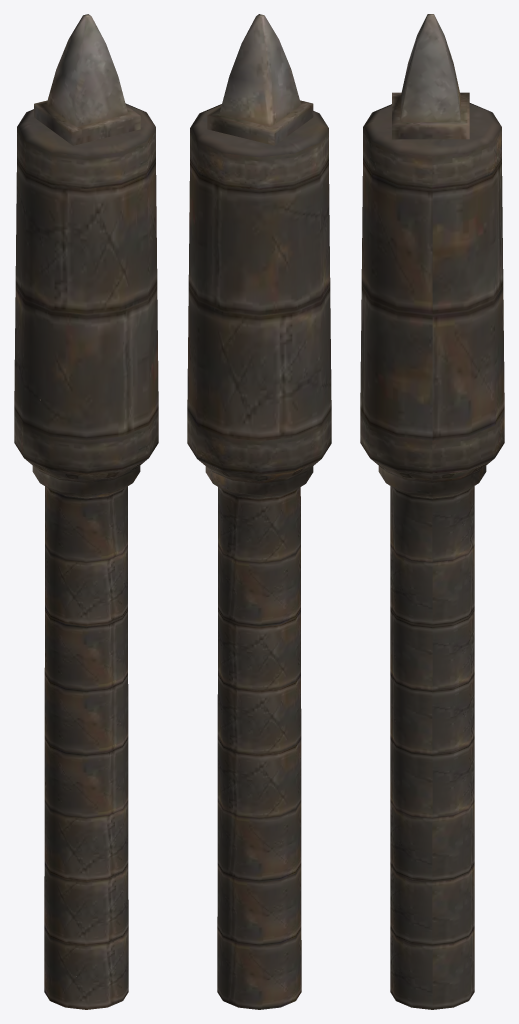
3 views of the same model, side by side, from view 1: azimuth 30°, elevation 25°; view 2: azimuth 150°, elevation 25°; view 3: azimuth 270°, elevation 25° (orthographic).
Parts seen in each view (by area): view 1: SM_DR_Lever_01_Lever_LOD0; view 2: SM_DR_Lever_01_Lever_LOD0; view 3: SM_DR_Lever_01_Lever_LOD0.
Boxes of the visible parts, x1=… form: SM_DR_Lever_01_Lever_LOD0: x1=14, y1=14, x2=158, y2=1009; SM_DR_Lever_01_Lever_LOD0: x1=187, y1=14, x2=331, y2=1009; SM_DR_Lever_01_Lever_LOD0: x1=360, y1=14, x2=504, y2=1009.
Bounding box in the file's own units: 0.1552 × 1.16 × 0.1552.
2 materials, 2 textured.
